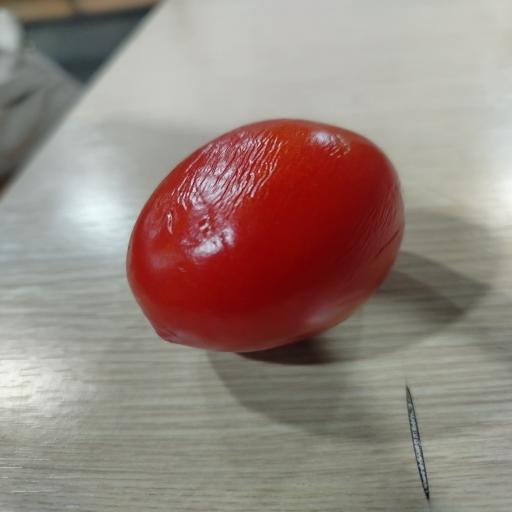spoiled: (127, 119, 404, 352)
